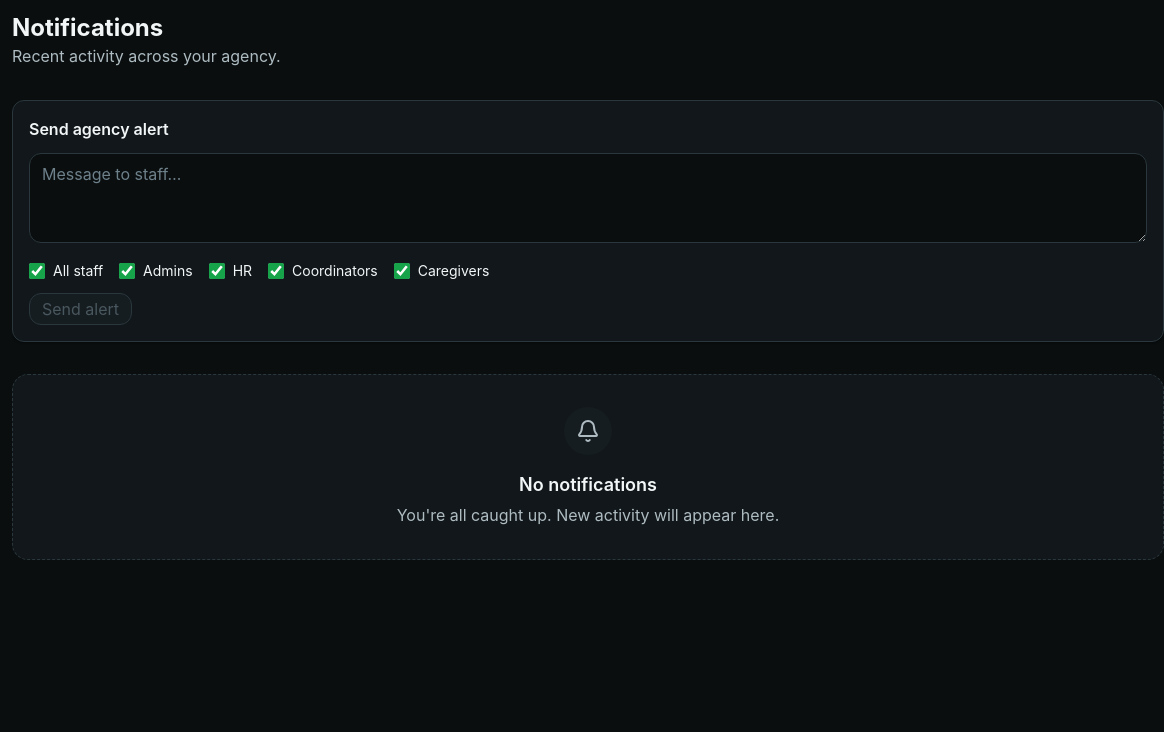
NotificationsPage › sends an agency alert with the entered message and selected roles
Type "Office closed Monday." into the text box named "alert message". click: (588, 198)
box: [29,153,1147,243]
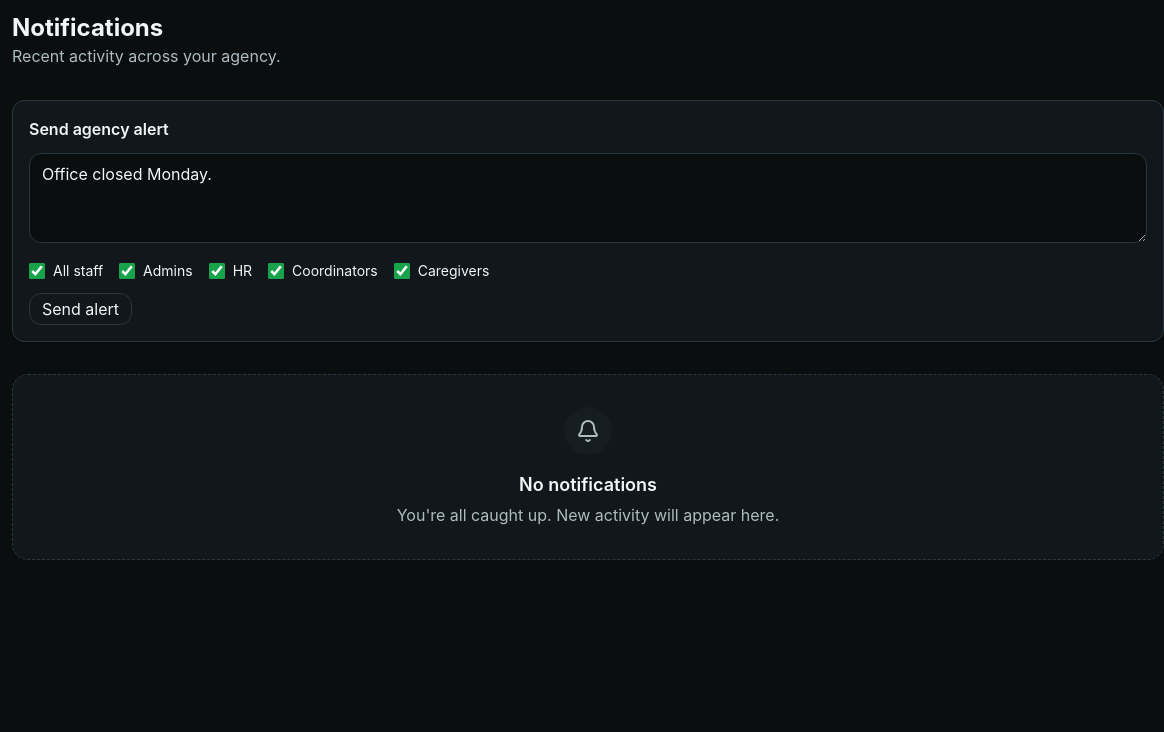
Uncheck Caregivers so the alert targets the remaining three roles.
Click the checkbox labelled "Caregivers". click: (402, 271)
box: [394,263,410,279]
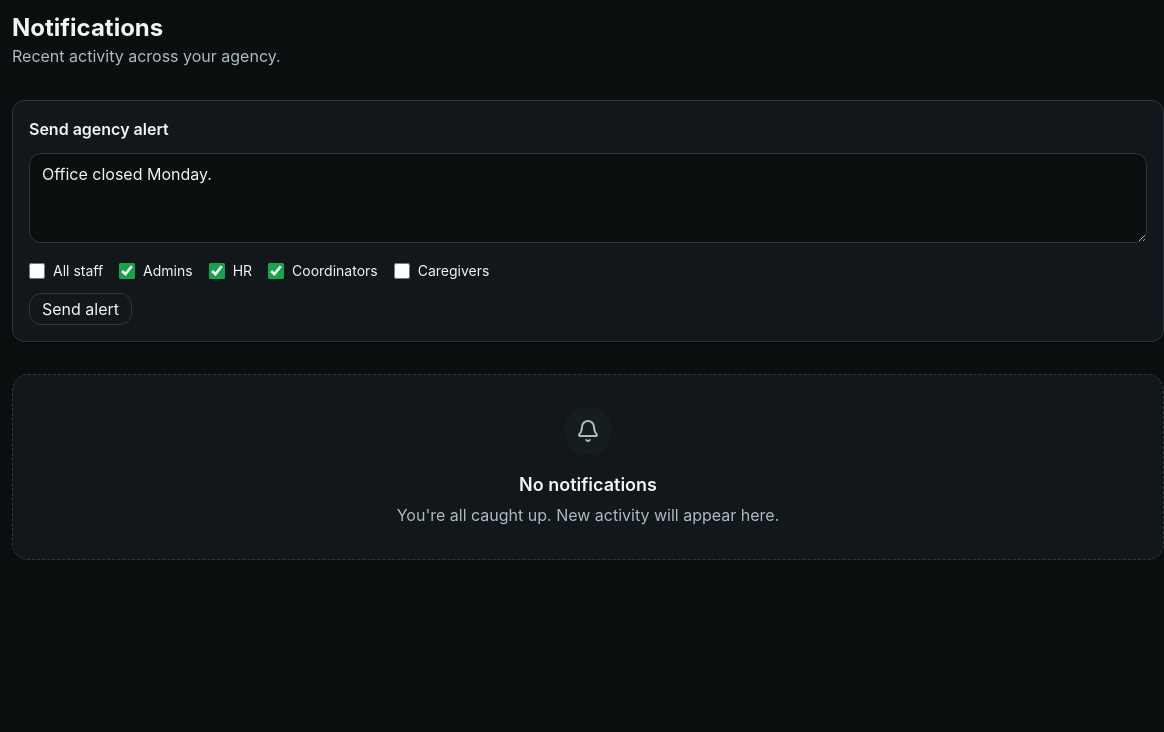
Click the button "Send alert". click: (80, 309)
box: [29,293,132,325]
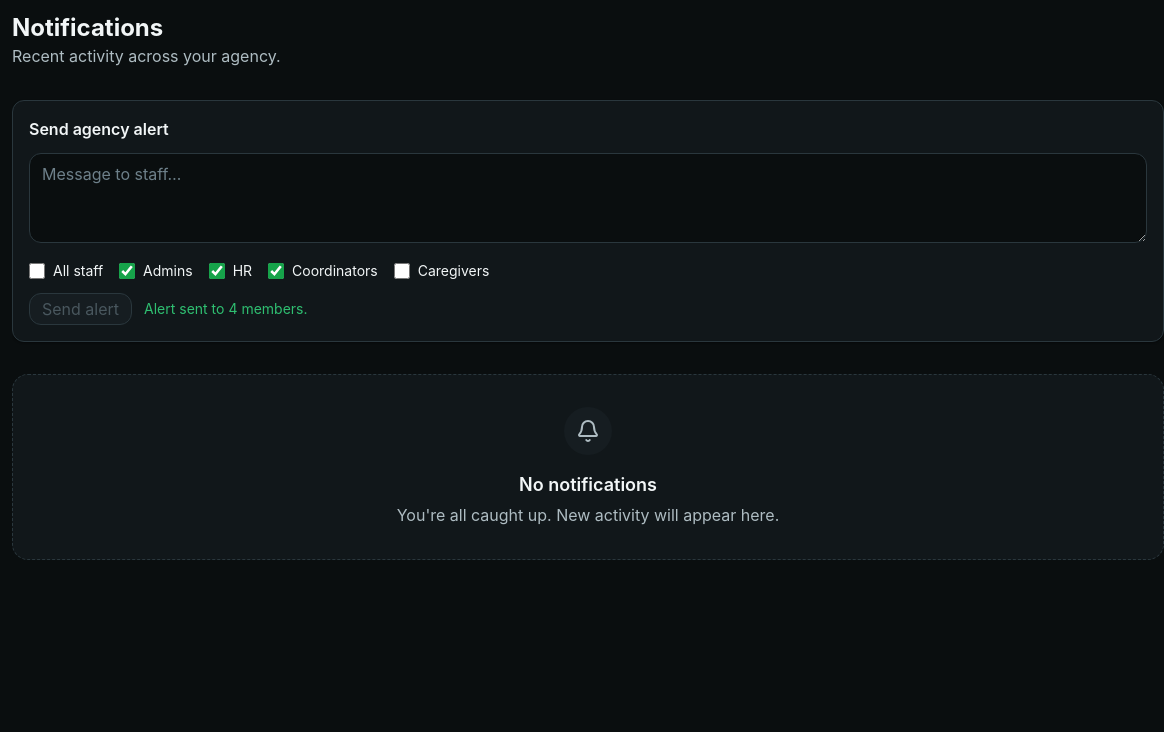
Expected: the text "Alert sent to 4 members." is shown, [144,299,308,319]
